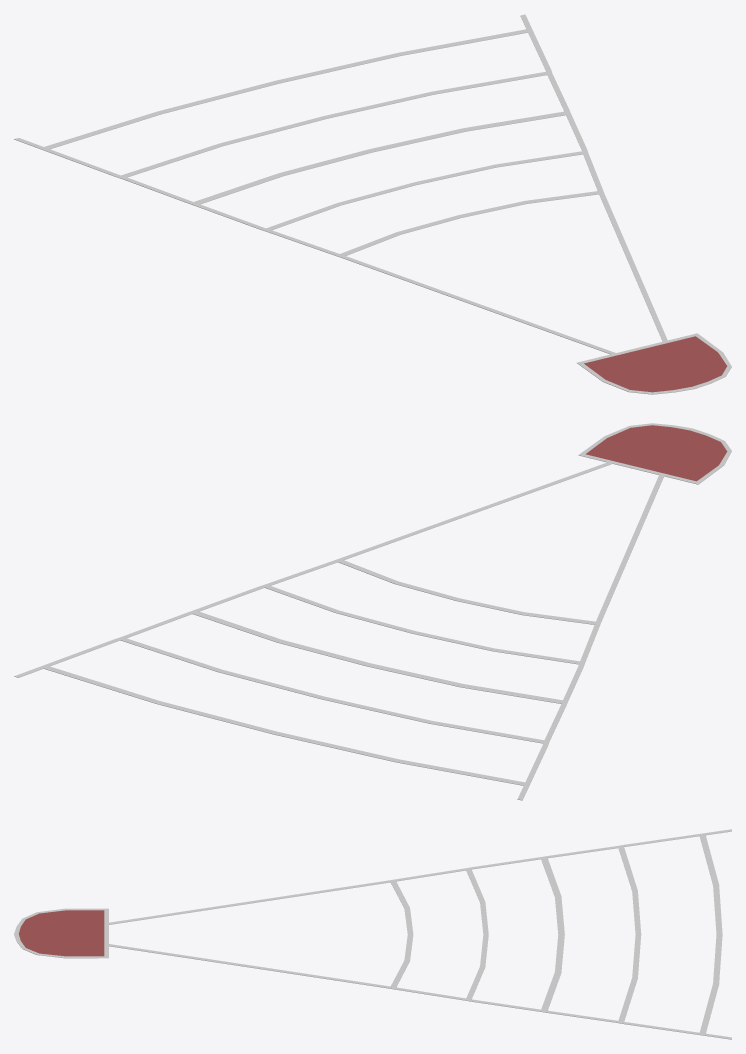
Rendered from Discus Field.fbx.
3 renders of one model, top to bottom at view 1: azimuth 30°, elevation 25°; view 2: azimuth 150°, elevation 25°; view 3: azimuth 270°, elevation 25°, orthographic. The views are drawn at different scales.
Parts seen in each view (by area): view 1: Discus Field; view 2: Discus Field; view 3: Discus Field.
Boxes of the visible parts, box(x1,y1,x2,y2) form: Discus Field: box(14, 14, 731, 394); Discus Field: box(14, 423, 731, 800); Discus Field: box(14, 829, 731, 1039).
Size of the model in its own units: 15652 by 10 by 22588.
